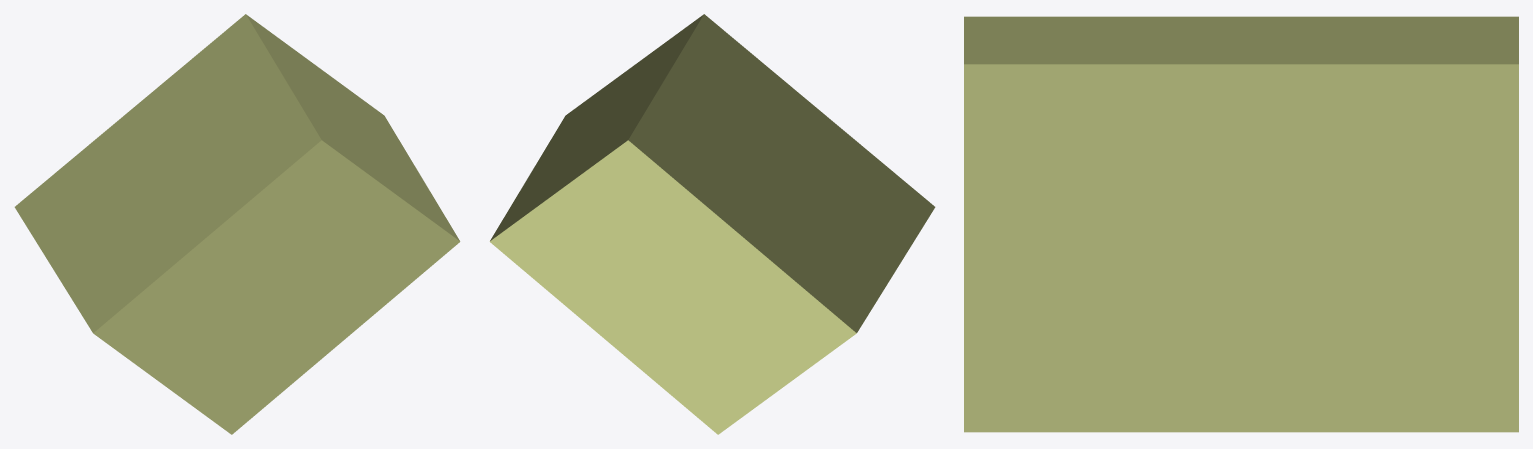
3 renders of one model, left to right at view 1: azimuth 30°, elevation 25°; view 2: azimuth 150°, elevation 25°; view 3: azimuth 270°, elevation 25°, orthographic. The views are drawn at different scales.
Visible parts, largest first — view 1: 0_1_1_3_2_2_3_0_2_3_1; view 2: 0_1_1_3_2_2_3_0_2_3_1; view 3: 0_1_1_3_2_2_3_0_2_3_1.
Boxes of the visible parts, box(x1,y1,x2,y2) form: 0_1_1_3_2_2_3_0_2_3_1: box(14, 14, 460, 434); 0_1_1_3_2_2_3_0_2_3_1: box(489, 14, 935, 434); 0_1_1_3_2_2_3_0_2_3_1: box(964, 16, 1518, 432).
Bounding box in the file's own units: 11.51 × 10.1 × 9.
